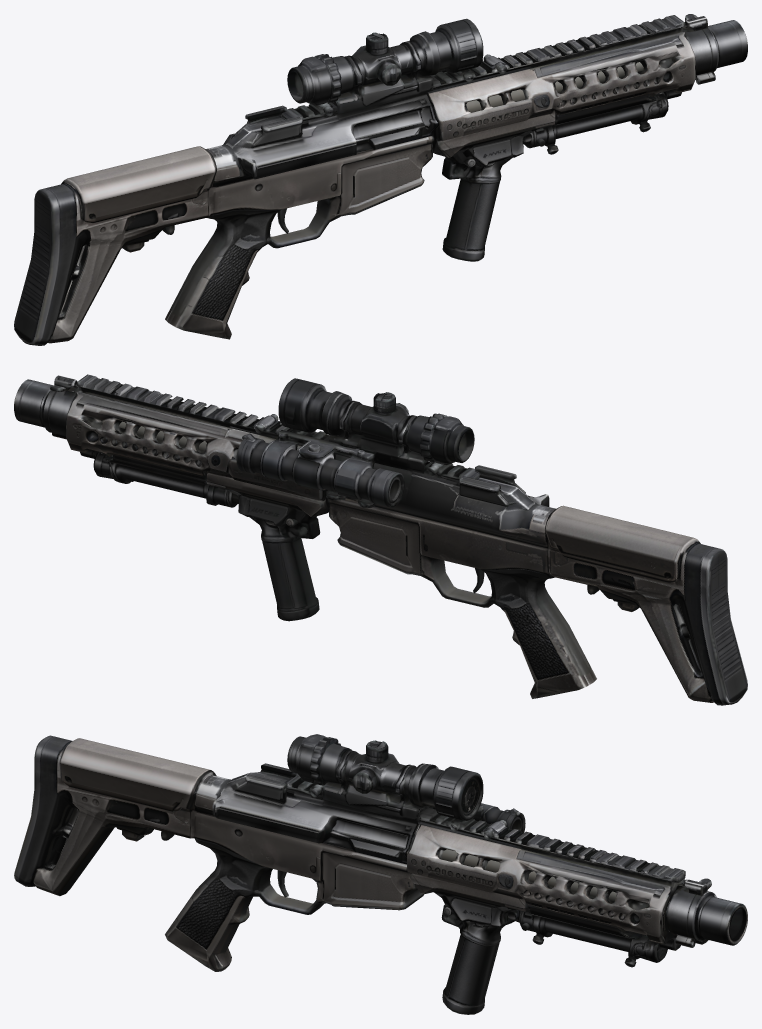
File: SM_Blaster.fbx
3 renders of one model, top to bottom at view 1: azimuth 30°, elevation 25°; view 2: azimuth 150°, elevation 25°; view 3: azimuth 330°, elevation 25°, orthographic.
Parts seen in each view (by area): view 1: SM_Blaster; view 2: SM_Blaster; view 3: SM_Blaster.
Part boxes in pixels (x1,y1,x2,y2): SM_Blaster: (14,14,747,345); SM_Blaster: (14,374,747,705); SM_Blaster: (14,734,747,1014).
Size of the model in its own units: 0.6797 by 0.2374 by 0.0827.
